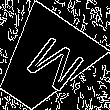M_SW: (9, 29, 80, 96)
